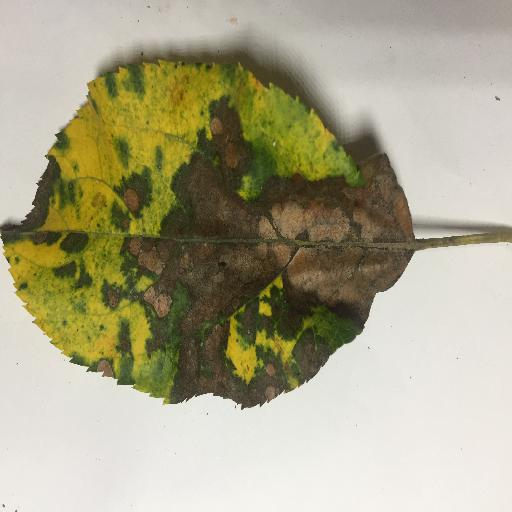Brown_Spot: (150, 68, 414, 427), (116, 233, 161, 275), (91, 355, 123, 382), (119, 190, 140, 218), (108, 285, 124, 311)
